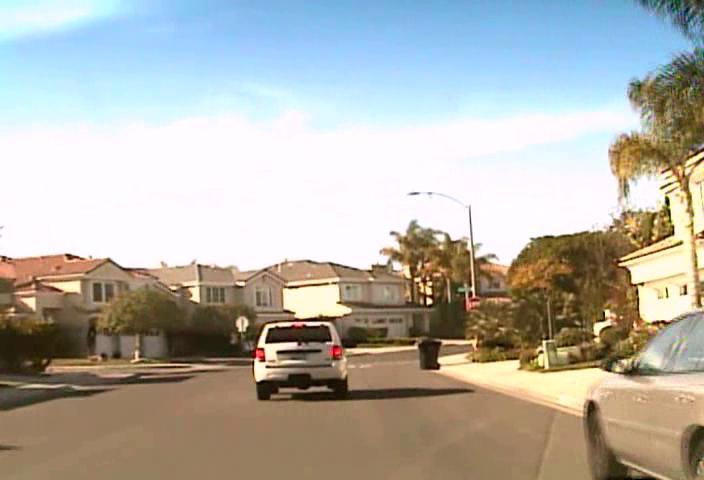stop: (466, 295, 483, 312)
